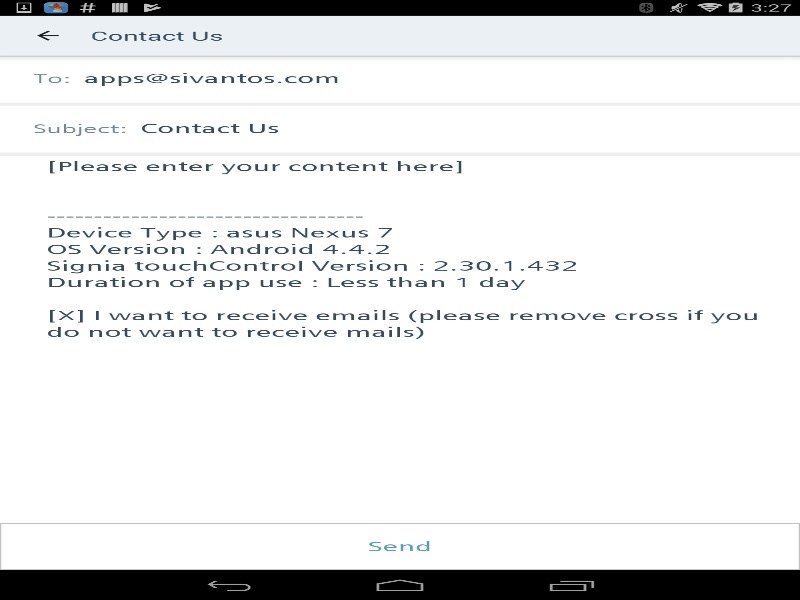Button: (0, 523, 800, 570), (10, 15, 85, 55)
Input: (13, 158, 786, 523), (84, 70, 786, 86), (140, 120, 786, 136)
